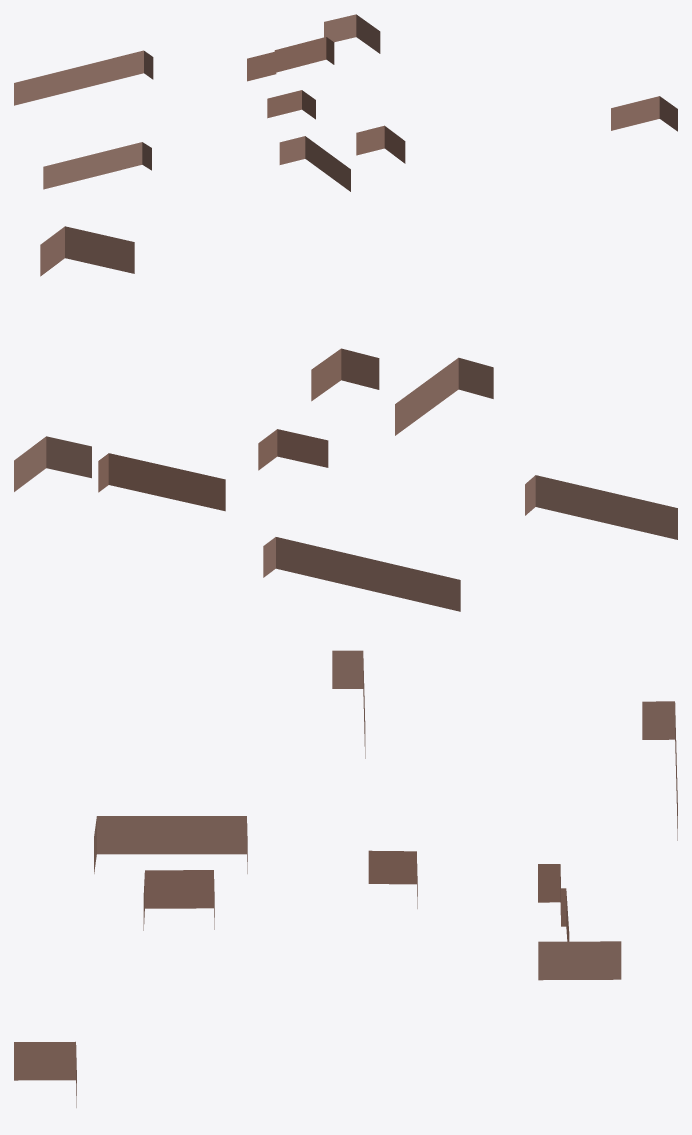
File: c_1632_17835_buildings_residential.glb
The picture shows the model from 3 angles, top to bottom: view 1: azimuth 30°, elevation 25°; view 2: azimuth 150°, elevation 25°; view 3: azimuth 270°, elevation 25°; orthographic projection. The views are drawn at different scales.
Parts seen in each view (by area): view 1: geometry_0; view 2: geometry_0; view 3: geometry_0.
Part boxes in pixels (<box>): geometry_0: <box>14,14,677,191</box>; geometry_0: <box>14,226,677,611</box>; geometry_0: <box>14,650,677,1107</box>.
Bounding box in the file's own units: 269 × 12.64 × 172.
